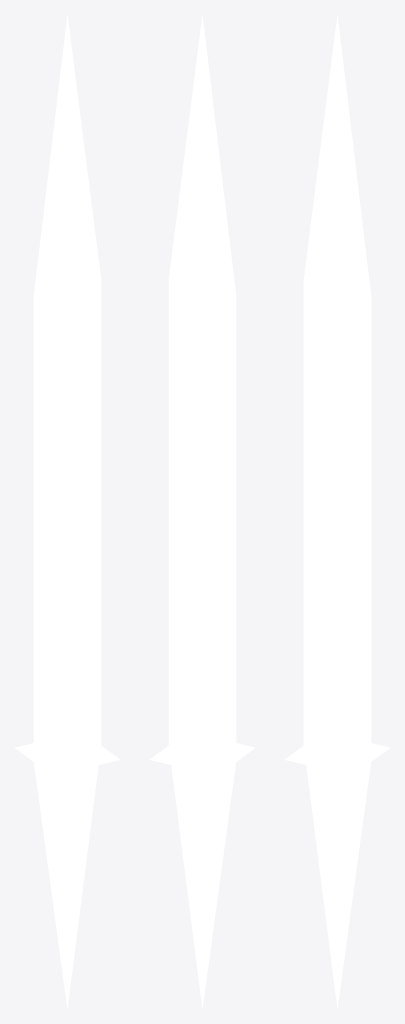
File: laser5.glb
The picture shows the model from 3 angles, left to right: view 1: azimuth 30°, elevation 25°; view 2: azimuth 150°, elevation 25°; view 3: azimuth 330°, elevation 25°; orthographic projection.
Visible parts, largest first — view 1: group_13; view 2: group_13; view 3: group_13.
Part boxes in pixels (left/top/right/bottom): group_13: left=14, top=14, right=120, bottom=1009; group_13: left=149, top=14, right=255, bottom=1009; group_13: left=284, top=14, right=390, bottom=1009.
Size of the model in its own units: 342 by 4828 by 342.
1 material, 1 textured.
